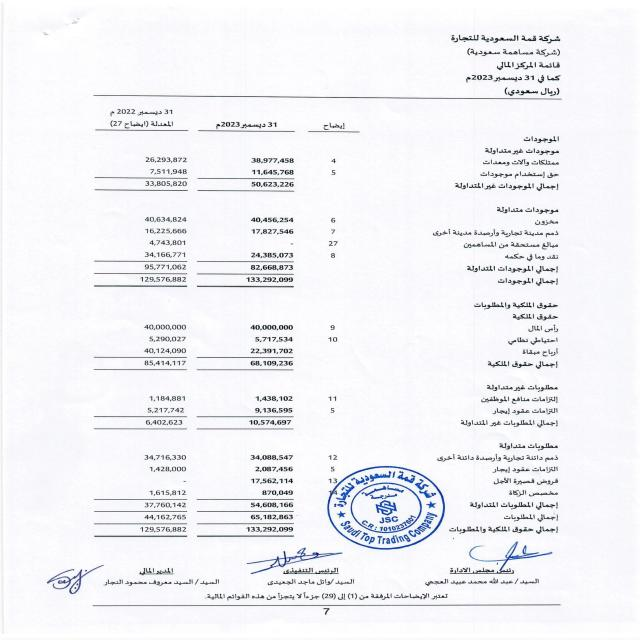financial_sheets: (490, 59, 564, 72)
table: (52, 100, 359, 539)
